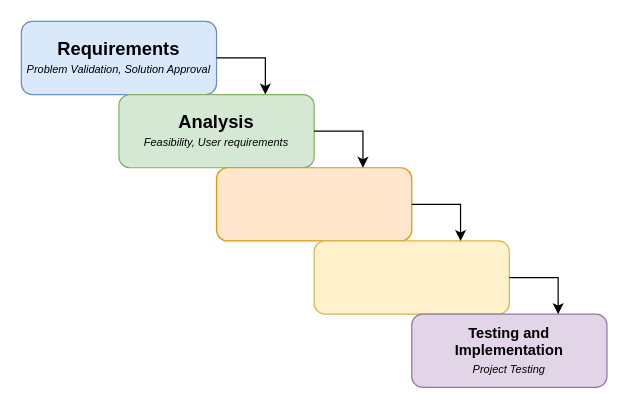
The diagram is 628 pixels wide and 409 high, and some of its shapes have lost their labels. Here are the shapes that lost their labels. From the top down, the centre of each, then its label:
the point at 313,204: Design System Specifications, Software and Harware Components
the point at 411,277: Development Model and Circuit Construction
